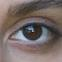eye: (23, 24, 42, 40)
